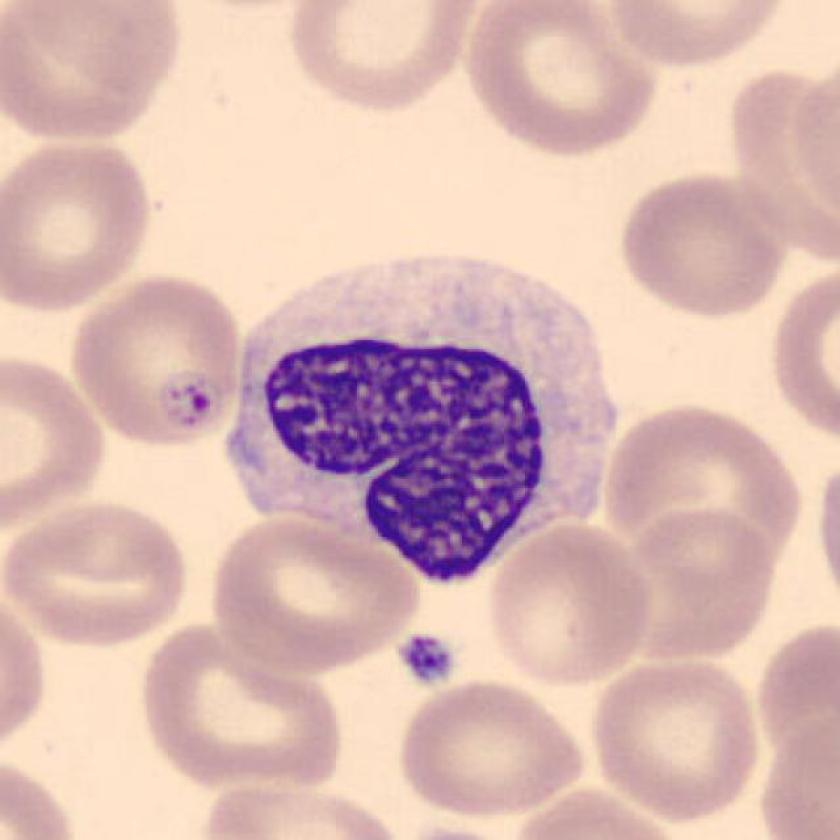neutrophil: (226, 253, 616, 586)
